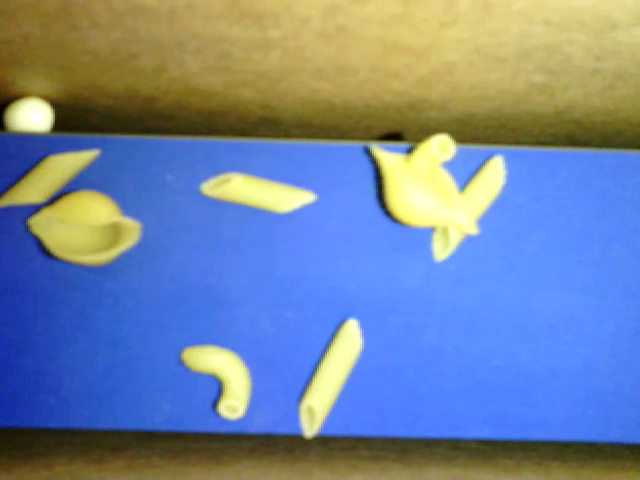elbow: (181, 343, 252, 418), (411, 132, 457, 165)
penne: (298, 315, 365, 439), (431, 153, 507, 262), (1, 148, 100, 205), (200, 171, 315, 215)
shell: (369, 145, 482, 236), (27, 188, 140, 269)
